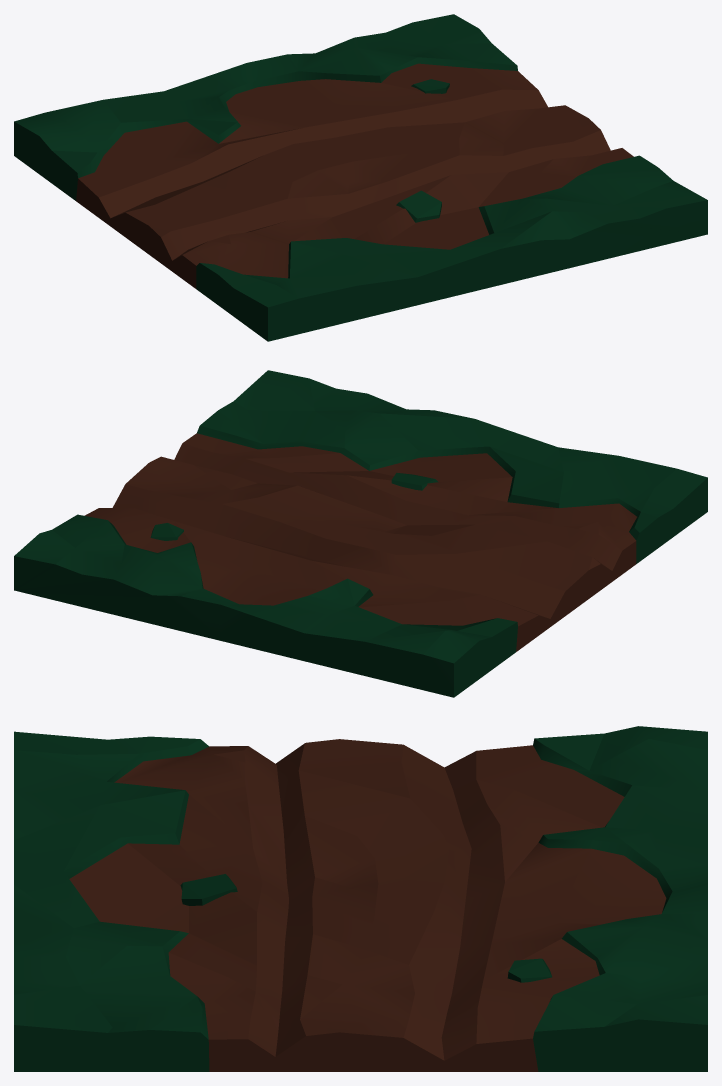
The model's file is Ground_Road_H.fbx.
3 views of the same model, one above another, from view 1: azimuth 30°, elevation 25°; view 2: azimuth 150°, elevation 25°; view 3: azimuth 270°, elevation 25° (orthographic). The views are drawn at different scales.
Visible parts, largest first — view 1: Ground_Road_H; view 2: Ground_Road_H; view 3: Ground_Road_H.
Boxes of the visible parts, x1,y1,x2,y2 form: Ground_Road_H: (14,14,707,341); Ground_Road_H: (14,370,707,697); Ground_Road_H: (14,726,707,1071).
Bounding box in the file's own units: 147 × 15.12 × 147.
